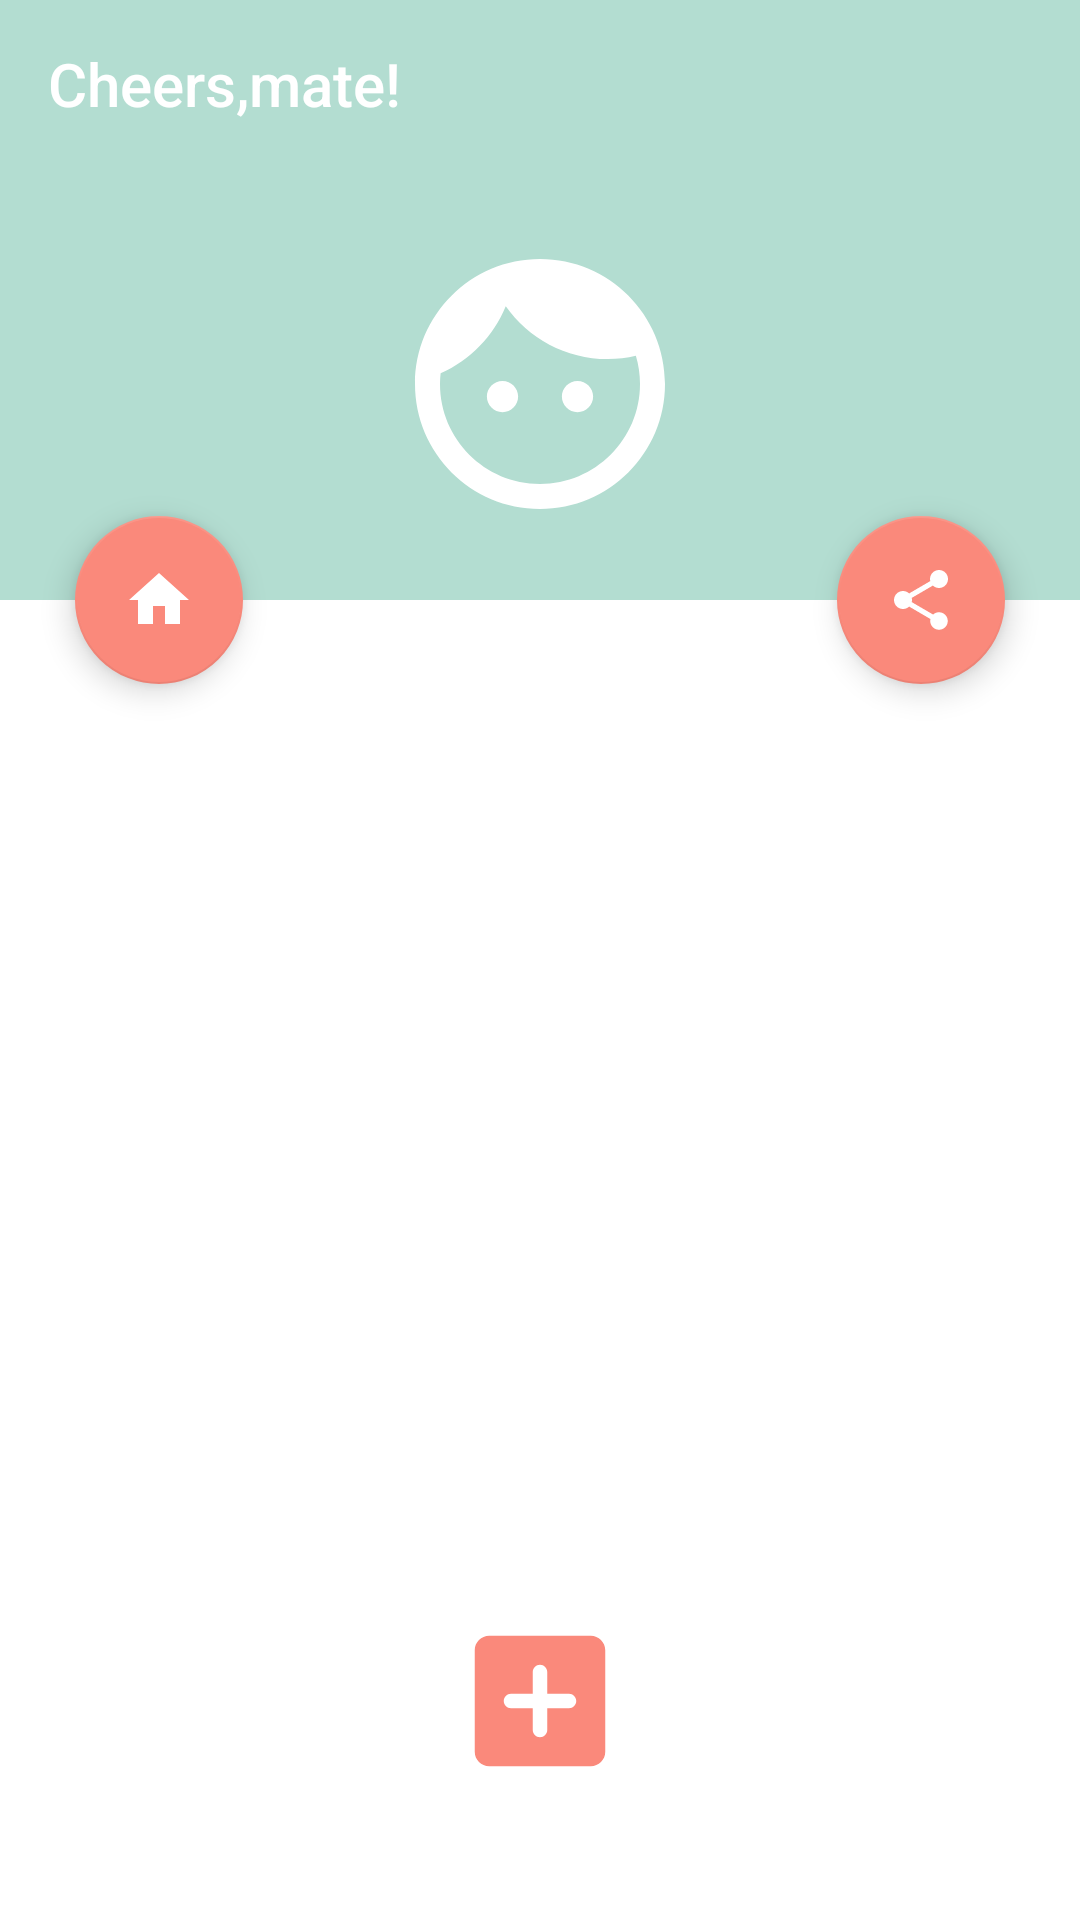

Where to tap for icons on this 1080px×1920px app screen, as point (x, y):
home: point (159, 600)
share: point (921, 600)
